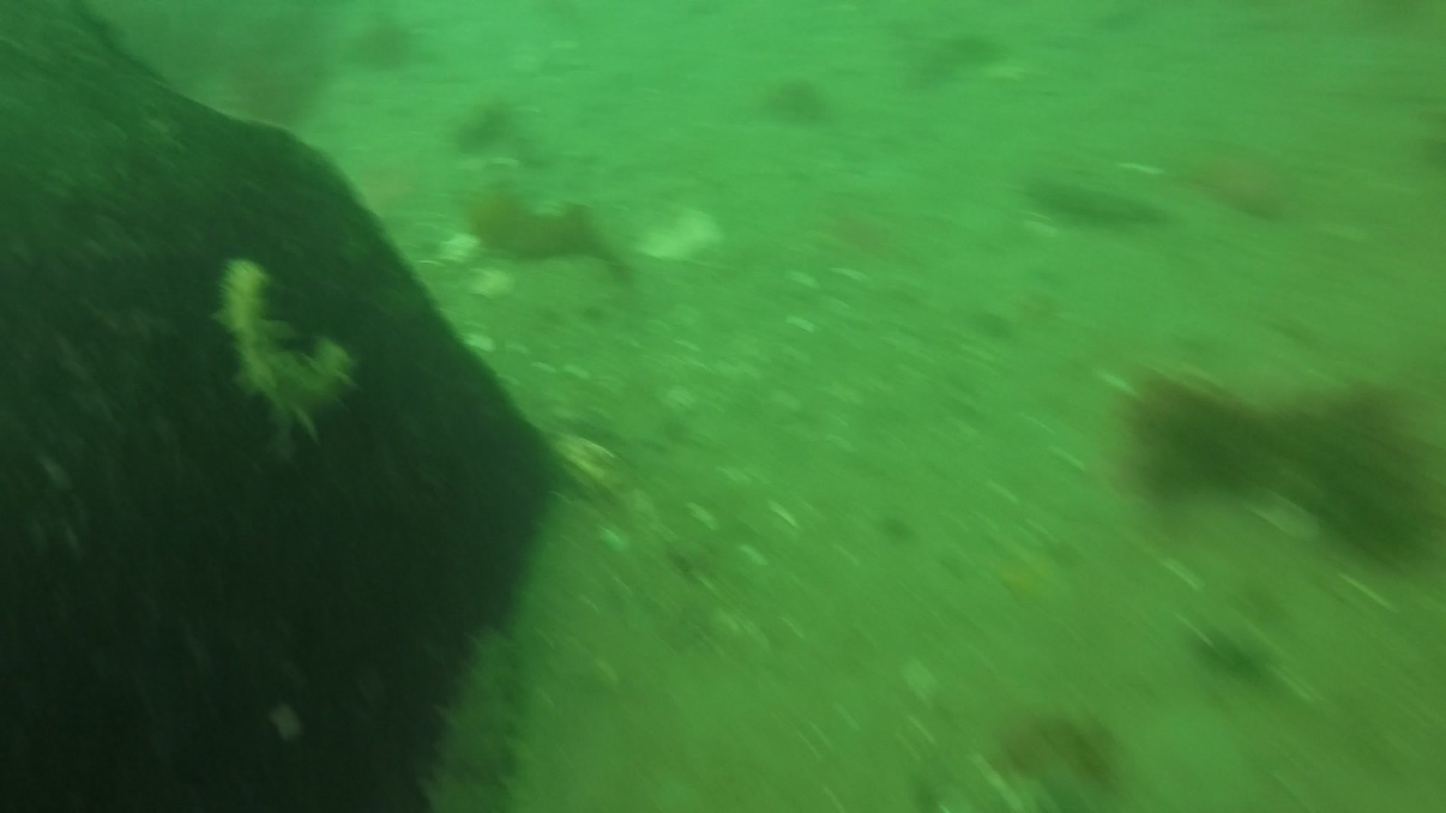echinus: (212, 263, 357, 443)
